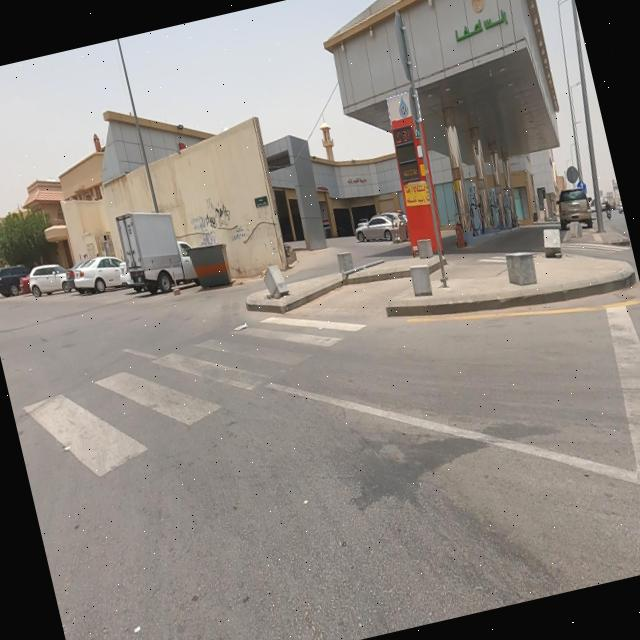Graffiti: (185, 188, 258, 251)
